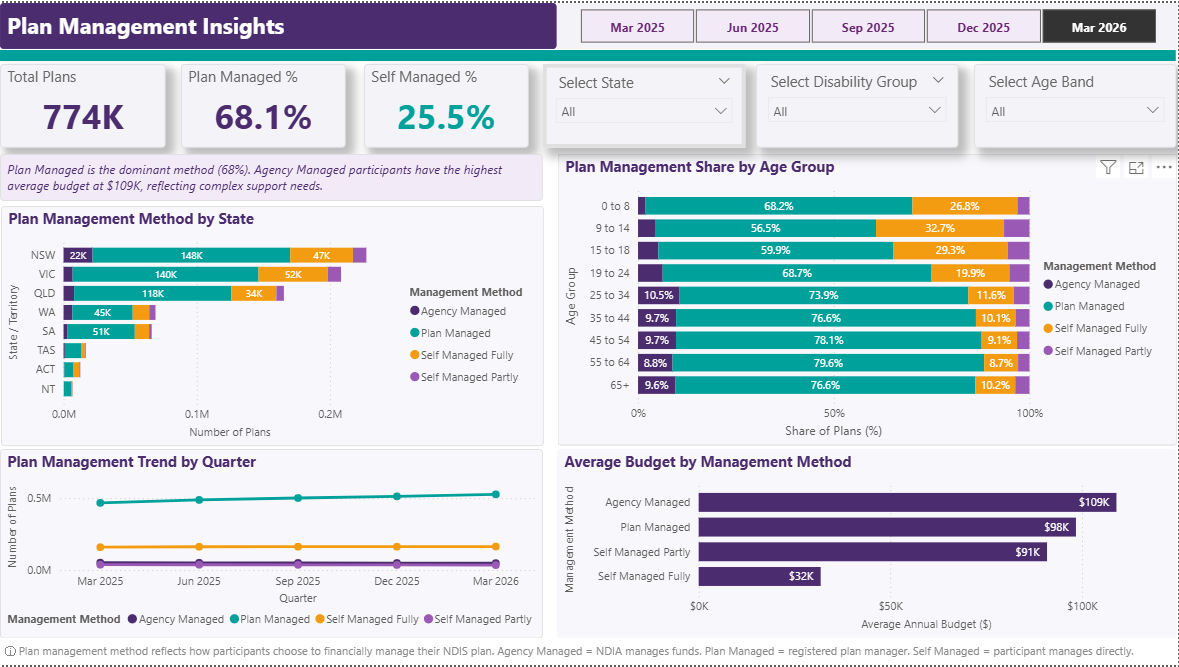

What the dashboard file says about the page in this screenshot:
{"tool":"powerbi","page":{"name":"Plan Management Insights","canvas":[1280,720],"ordinal":4},"visuals":[{"type":"textbox","box":[0,0,605.2,50],"z":0},{"type":"shape","box":[0,50.6,1278.3,12],"z":1000},{"type":"slicer","fields":{"Values":["DimDate.QuarterLabel"]},"box":[605.2,0,675,50],"z":2000},{"type":"card","title":"Total Plans","fields":{"Values":["Measures (2).P5 Total Plans"]},"box":[0,66.7,180.2,90.6],"z":3000},{"type":"card","title":"Plan Managed %","fields":{"Values":["Measures (2).P5 Plan Managed Share %"]},"box":[196.9,66.7,179.2,90.6],"z":4000},{"type":"card","title":"Self Managed %","fields":{"Values":["Measures (2).P5 Self Managed Share %"]},"box":[395.8,66.7,179.2,90.6],"z":5000},{"type":"barChart","title":"Plan Management Method by State","fields":{"Y":["Measures (2).P5 Plans by State"],"Series":["FactPlanManagement.ManagementMethod"],"Category":["DimState.StateShortName"]},"box":[0.9,220.2,589.9,260.6],"z":6000},{"type":"hundredPercentStackedBarChart","title":"Plan Management Share by Age Group","fields":{"Category":["DimAgeBand.AgeBand"],"Y":["Measures (2).P5 Plans by AgeBand"],"Series":["FactPlanManagement.ManagementMethod"]},"box":[606,163.9,673.5,316.9],"z":7000},{"type":"lineChart","title":"Plan Management Trend by Quarter","fields":{"Series":["FactPlanManagement.ManagementMethodRaw"],"Y":["Measures (2).P5 Plans Trend"],"Category":["DimDate.QuarterLabel"]},"box":[0,485.3,589.9,205.5],"z":8000},{"type":"clusteredBarChart","title":"Average Budget by Management Method","fields":{"Category":["FactPlanManagement.ManagementMethod"],"Y":["Measures (2).P5 Weighted Avg Budget by Method"]},"box":[605.5,485.3,674.3,205.5],"z":9000},{"type":"textbox","box":[0,690.6,1279.2,29.2],"z":10000},{"type":"slicer","title":"Select State","fields":{"Values":["DimState.StateName"]},"box":[590.6,66.7,220,90.6],"z":11000},{"type":"slicer","title":"Select Disability Group","fields":{"Values":["FactPlanManagement.DisabilityGroup"]},"box":[821.9,66.7,220,90.6],"z":12000},{"type":"slicer","title":"Select Age Band","fields":{"Values":["DimAgeBand.AgeBand"]},"box":[1058.3,66.7,220,90.6],"z":13000},{"type":"textbox","box":[0,163.9,590.4,50.6],"z":14000}]}

Visuals, with their boxes in screenshot pixels (x1, y1, x2, y2), scaled from the page's 1280x720 canvas onto the 1179x667 screenshot:
textbox: select_region(0, 0, 557, 46)
shape: select_region(0, 47, 1177, 58)
slicer - DimDate.QuarterLabel: select_region(557, 0, 1178, 46)
"Total Plans" card: select_region(0, 62, 166, 146)
"Plan Managed %" card: select_region(181, 62, 346, 146)
"Self Managed %" card: select_region(365, 62, 530, 146)
"Plan Management Method by State" barChart: select_region(1, 204, 544, 445)
"Plan Management Share by Age Group" hundredPercentStackedBarChart: select_region(558, 152, 1178, 445)
"Plan Management Trend by Quarter" lineChart: select_region(0, 450, 543, 640)
"Average Budget by Management Method" clusteredBarChart: select_region(558, 450, 1178, 640)
textbox: select_region(0, 640, 1178, 666)
"Select State" slicer: select_region(544, 62, 747, 146)
"Select Disability Group" slicer: select_region(757, 62, 960, 146)
"Select Age Band" slicer: select_region(975, 62, 1177, 146)
textbox: select_region(0, 152, 544, 199)
